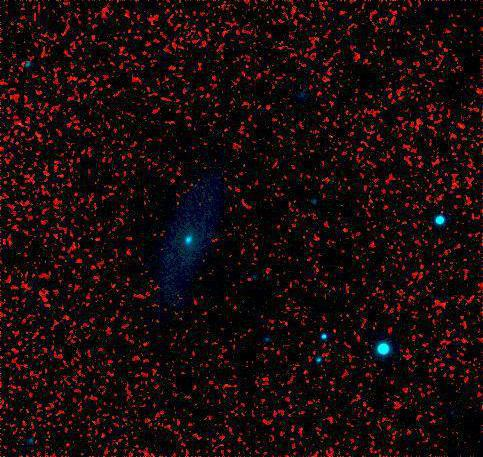star: (0, 114, 29, 144)
